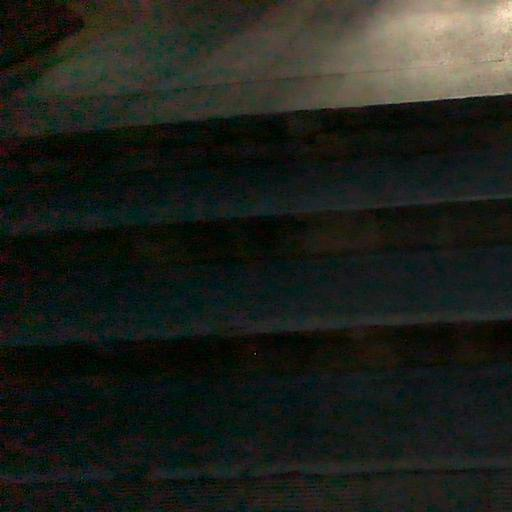stairs: (0, 97, 511, 510)
